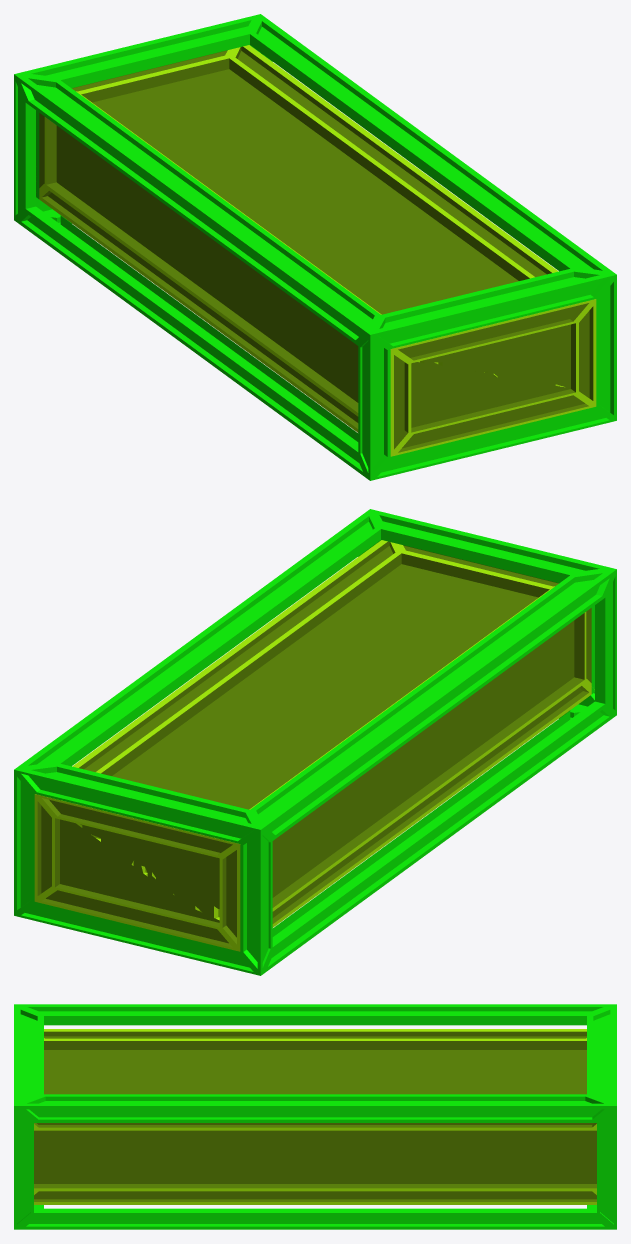
The model's file is JengaPiecePrefab.fbx.
3 views of the same model, one above another, from view 1: azimuth 30°, elevation 25°; view 2: azimuth 150°, elevation 25°; view 3: azimuth 270°, elevation 25° (orthographic). The views are drawn at different scales.
Visible parts, largest first — view 1: JengaPiece, OuterBox; view 2: JengaPiece, OuterBox; view 3: JengaPiece, OuterBox.
Boxes of the visible parts, bbox=[...] form: JengaPiece: bbox=[39, 45, 596, 456]; OuterBox: bbox=[14, 14, 616, 480]; JengaPiece: bbox=[34, 540, 594, 951]; OuterBox: bbox=[14, 509, 616, 975]; JengaPiece: bbox=[34, 1029, 596, 1204]; OuterBox: bbox=[14, 1004, 616, 1229].
Bounding box in the file's own units: 120 × 67.85 × 300.
